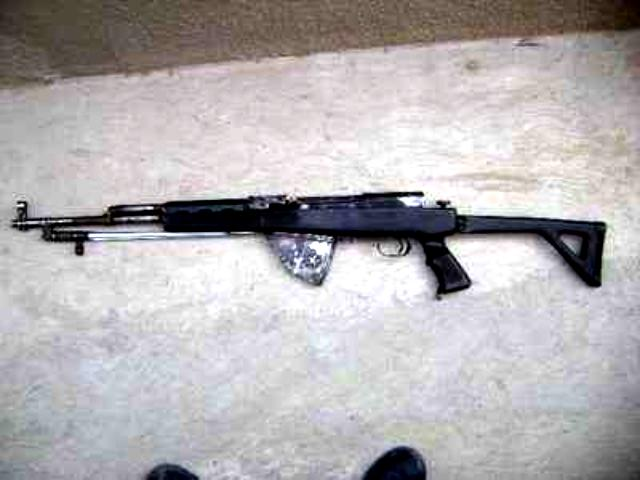rifle: (8, 147, 624, 315)
